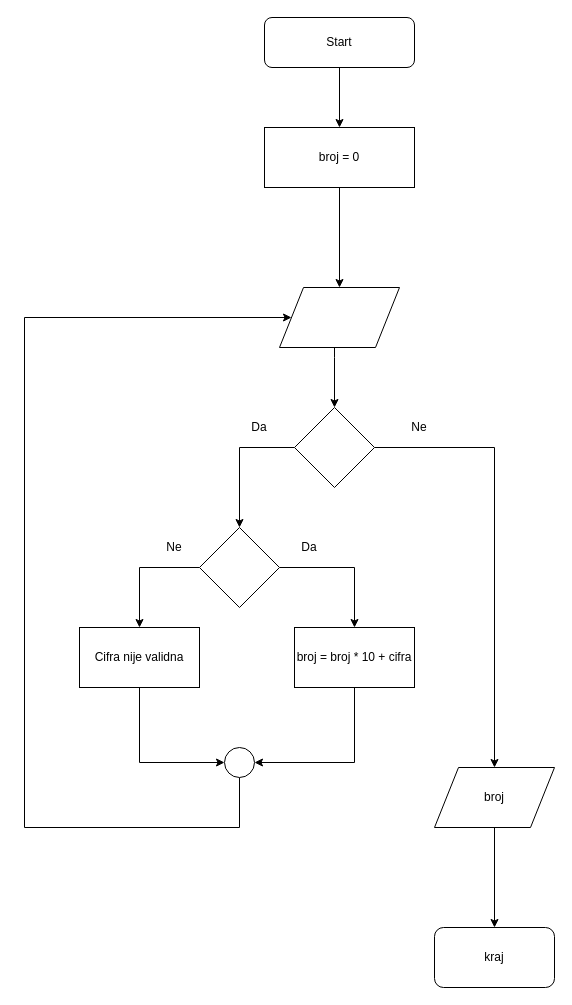
Some shapes in this 572 by 1005 pixel diagram are drawn without their labels. Each missing label, with the centre of its shape:
"cifra" goes at point 339,317.
"cifra <= 9" goes at point 239,567.
"cifra >= 0" goes at point 334,447.
